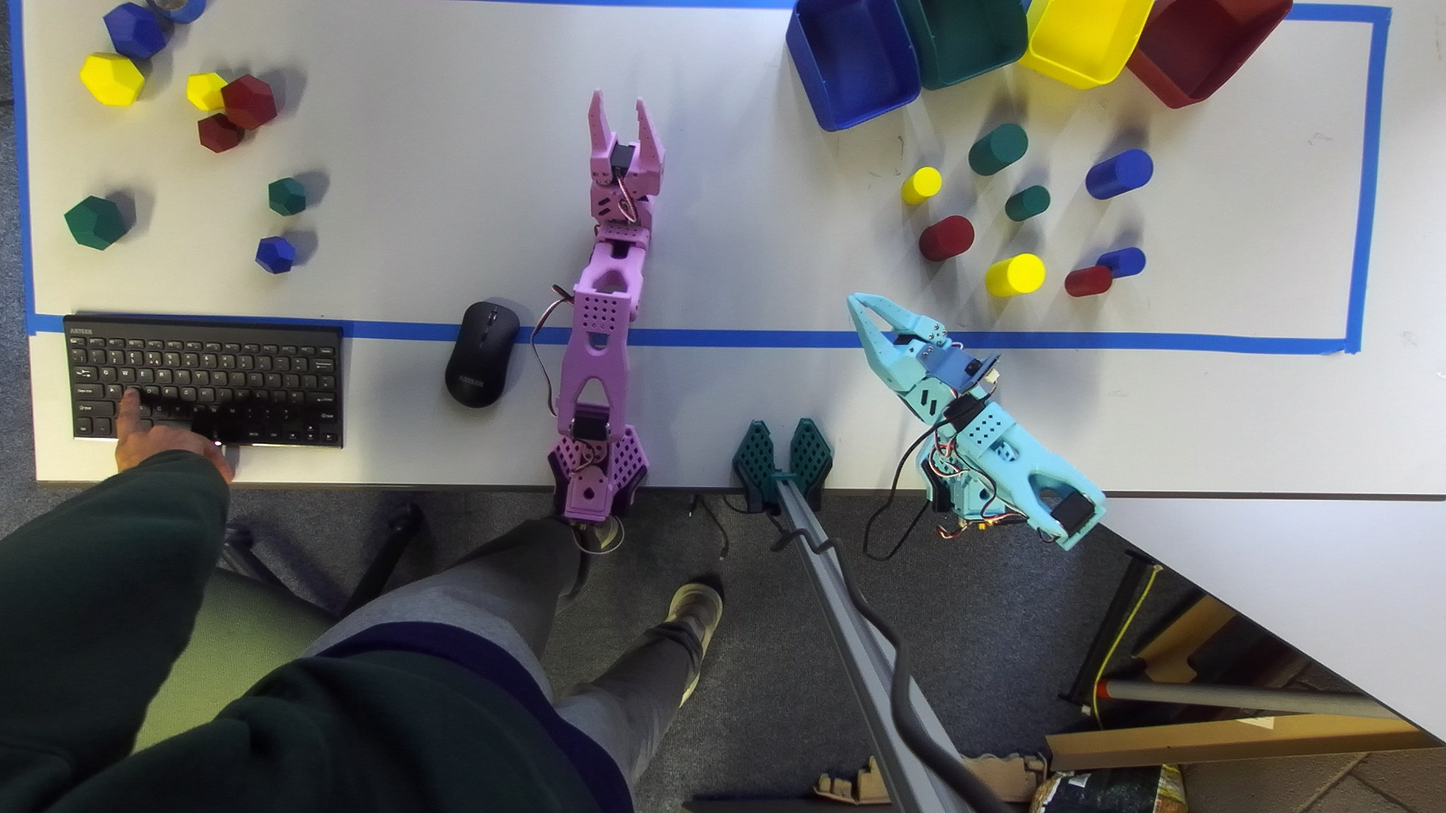bin: (1127, 0, 1292, 108), (786, 0, 920, 130), (1020, 0, 1153, 88), (897, 0, 1028, 88)
cylinder: (1085, 148, 1153, 199), (969, 123, 1027, 175), (984, 254, 1045, 296), (919, 215, 974, 261), (1005, 185, 1050, 221), (1097, 247, 1146, 278), (1064, 266, 1112, 297), (901, 166, 941, 203)
gripper: (847, 293, 994, 425), (588, 90, 664, 229)
